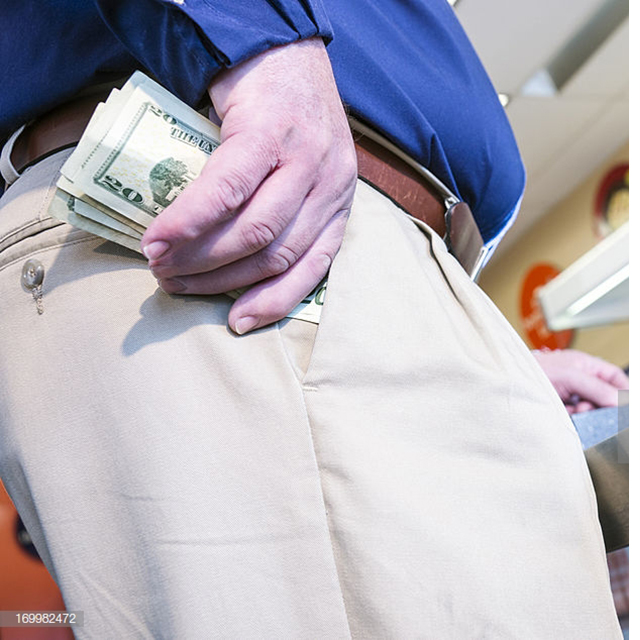banknotes: (42, 71, 230, 248)
